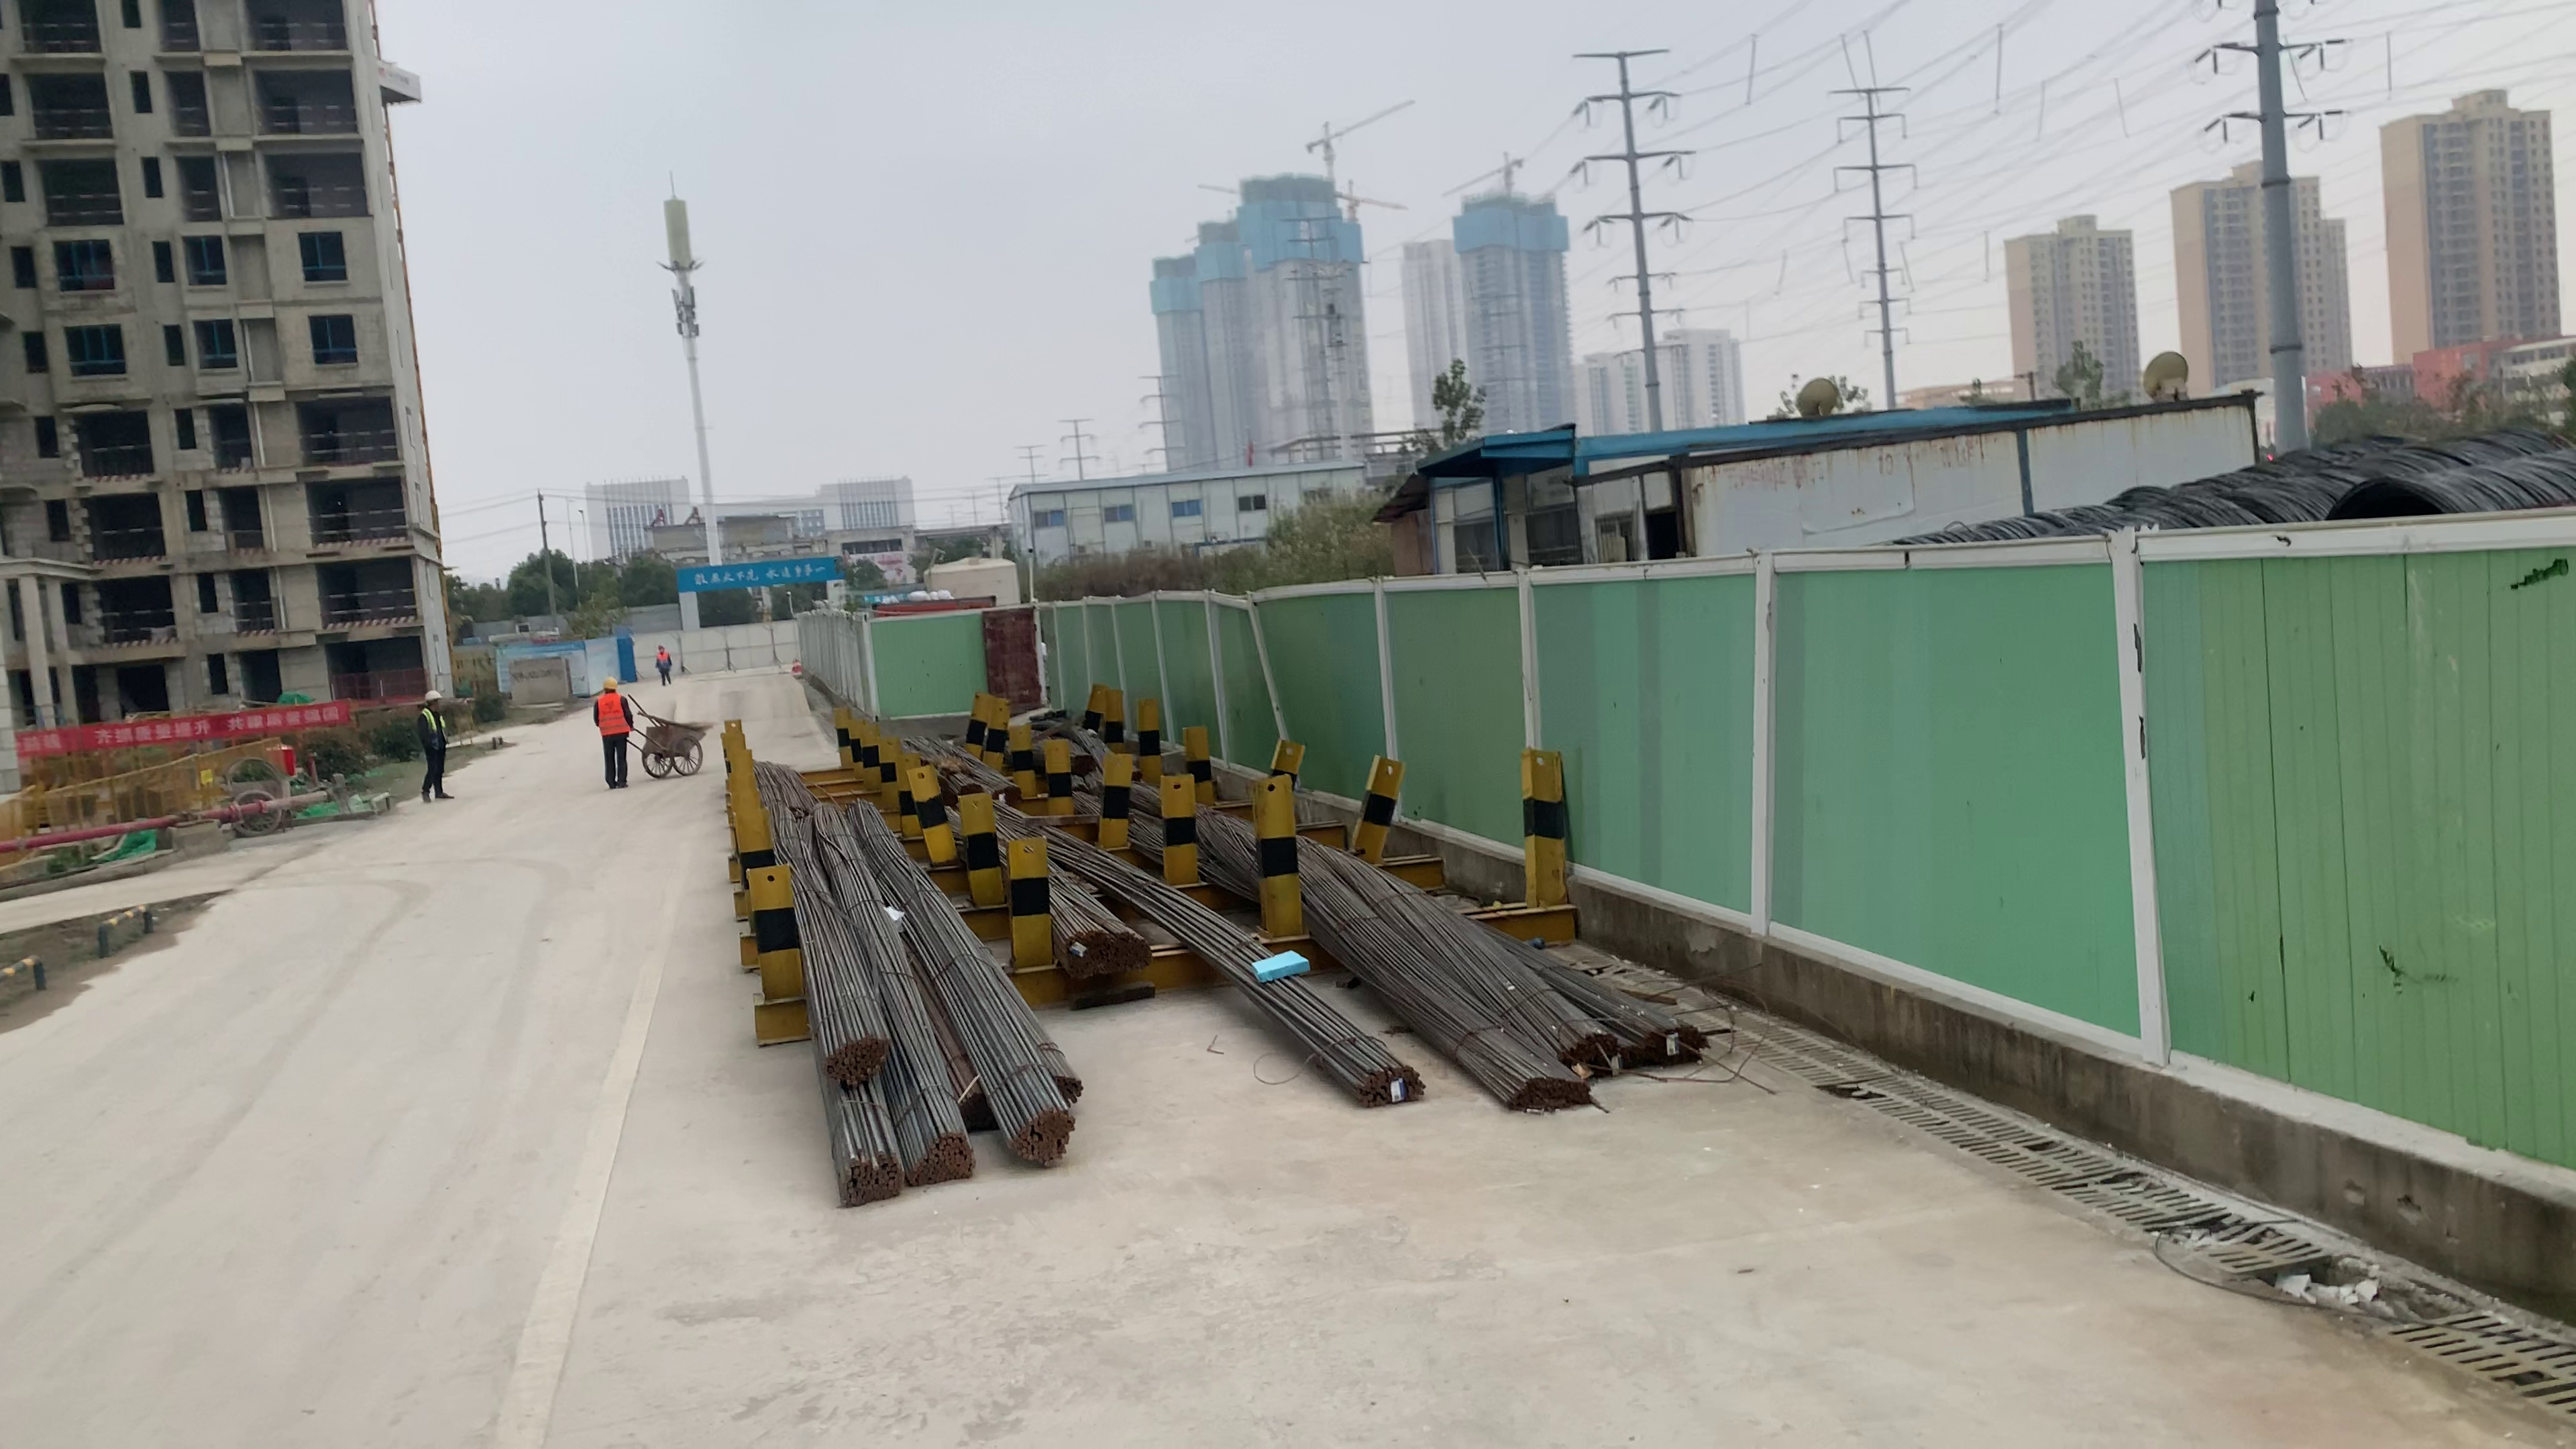rebar: (1346, 1058, 1431, 1108), (1509, 1070, 1592, 1116), (1010, 1108, 1076, 1166), (908, 1134, 977, 1187), (821, 1033, 892, 1081), (1622, 1030, 1707, 1065), (839, 1152, 899, 1198), (1060, 925, 1113, 977), (957, 1081, 1000, 1129), (1566, 1030, 1610, 1069), (1115, 929, 1152, 966), (1054, 1065, 1088, 1104)
